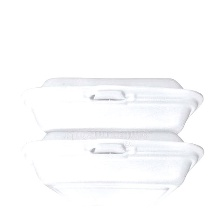foam_box: (17, 127, 206, 213), (16, 74, 205, 136)
